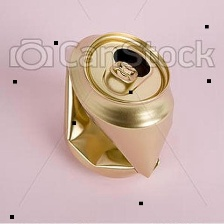can: (61, 29, 179, 183)
